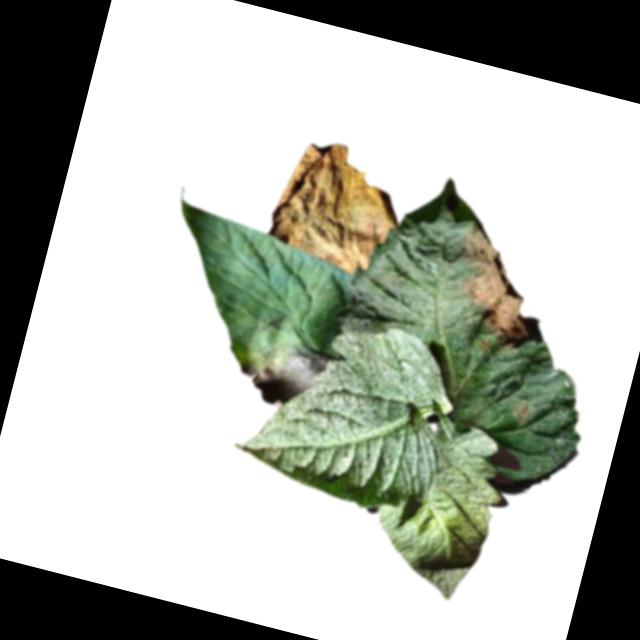Late_blight: (261, 130, 419, 283), (436, 217, 572, 360), (233, 332, 330, 414), (506, 394, 537, 425)
healthy: (226, 297, 470, 525), (361, 411, 514, 607)
